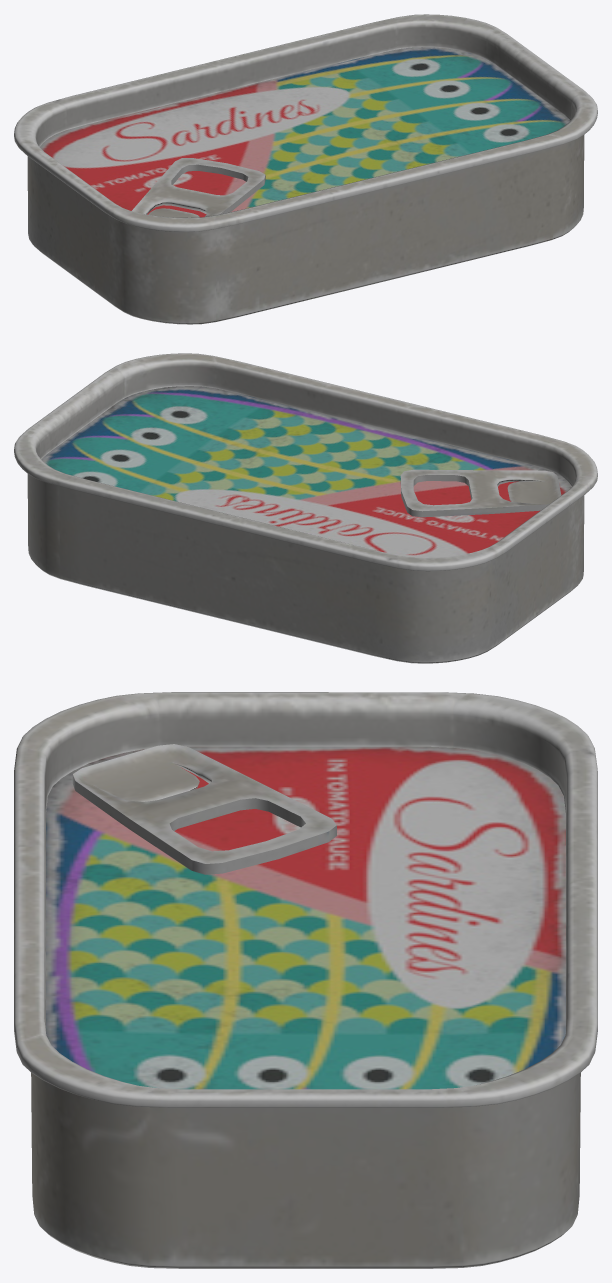
File: Sardines.glb
3 renders of one model, top to bottom at view 1: azimuth 30°, elevation 25°; view 2: azimuth 150°, elevation 25°; view 3: azimuth 270°, elevation 25°, orthographic. The views are drawn at different scales.
Parts seen in each view (by area): view 1: sardines_long_life_food_0; view 2: sardines_long_life_food_0; view 3: sardines_long_life_food_0.
Part boxes in pixels (bbox=[...]): sardines_long_life_food_0: bbox=[14, 14, 597, 324]; sardines_long_life_food_0: bbox=[14, 353, 597, 663]; sardines_long_life_food_0: bbox=[14, 692, 597, 1268].
Size of the model in its own units: 0.1313 by 0.0275 by 0.0796.
1 material, 1 textured.
